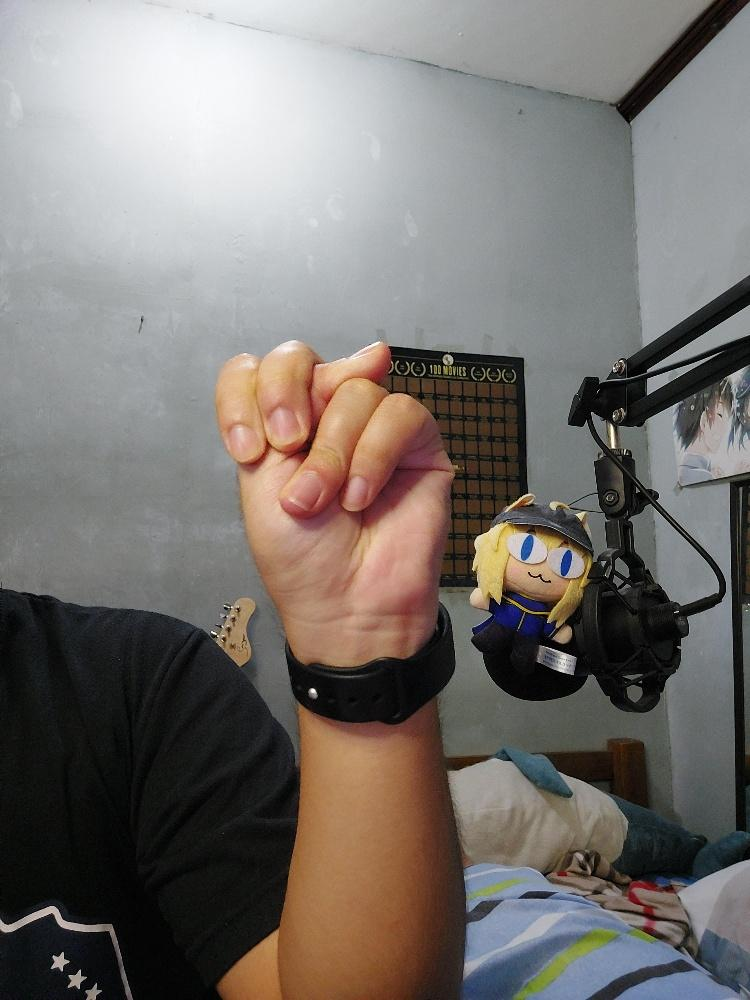n: (214, 340, 455, 616)
